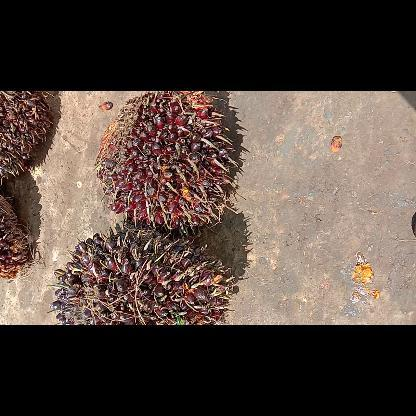TBS mentah: (94, 90, 233, 232), (54, 232, 228, 324), (0, 90, 52, 188)
